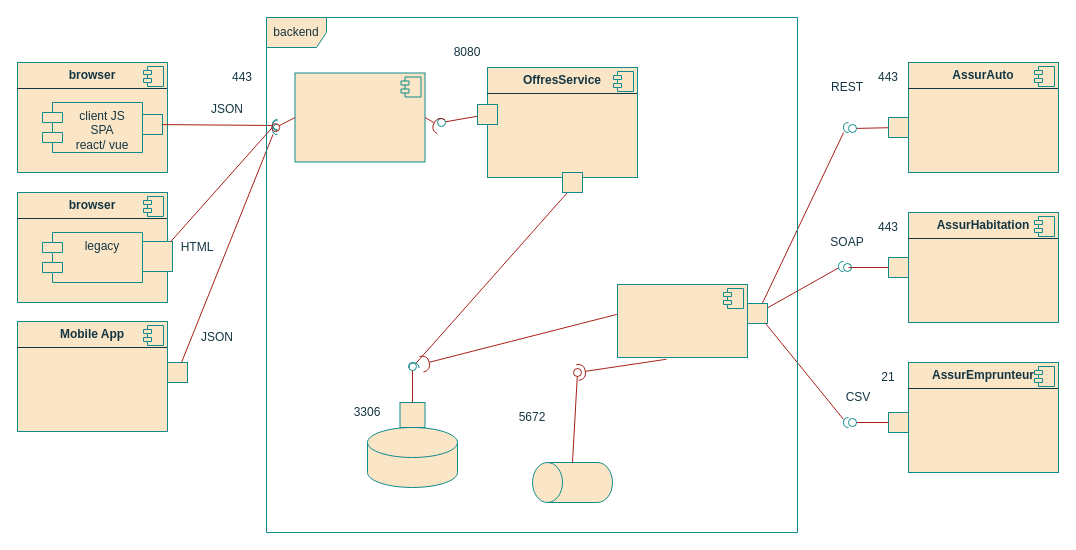
Image size: 1076x550. Some labels were removed from this diagram. Here are the shapes that lost their labels. From the top down, the box of each, then its label:
(294, 72, 425, 162): Passerelle API
(616, 284, 748, 358): ETL
